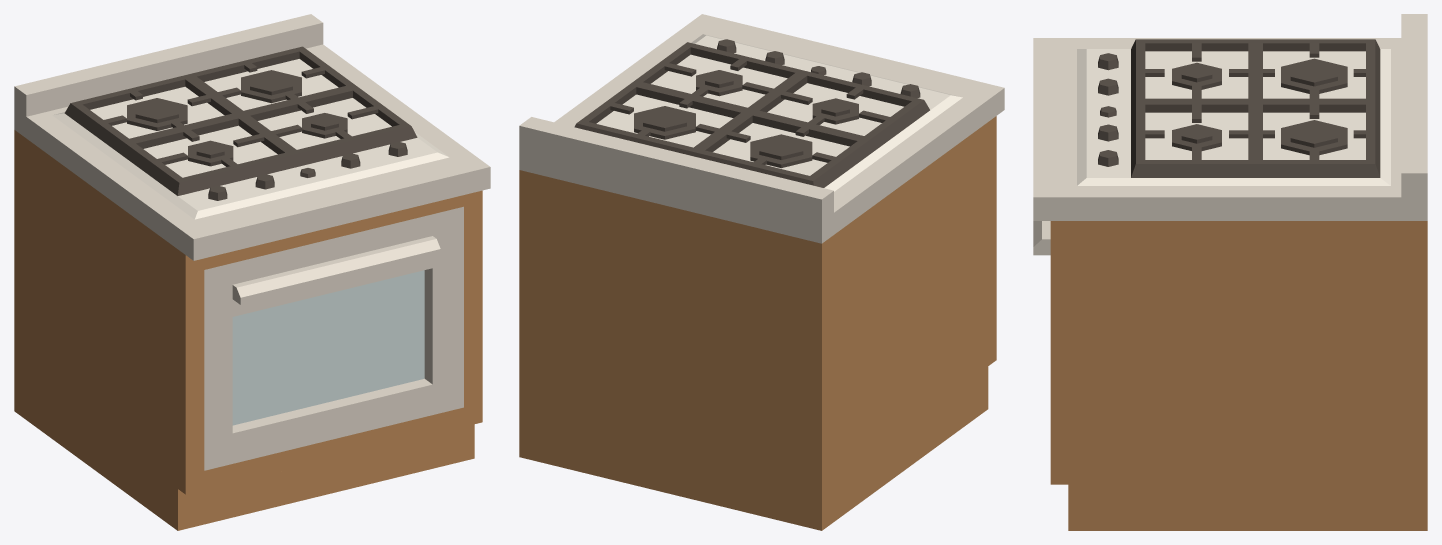
The model's file is kitKitchenStove.glb.
The picture shows the model from 3 angles, left to right: view 1: azimuth 30°, elevation 25°; view 2: azimuth 150°, elevation 25°; view 3: azimuth 270°, elevation 25°; orthographic projection. The views are drawn at different scales.
Visible parts, largest first — view 1: kitKitchenStove_wood, kitKitchenStove_metal, kitKitchenStove_metalDark, kitKitchenStove_glass, kitKitchenStove_fabricLight; view 2: kitKitchenStove_wood, kitKitchenStove_metal, kitKitchenStove_metalDark, kitKitchenStove_fabricLight; view 3: kitKitchenStove_wood, kitKitchenStove_metal, kitKitchenStove_metalDark, kitKitchenStove_fabricLight.
Part boxes in pixels (box(x1,y1,x2,y2)): kitKitchenStove_wood: box(14, 130, 482, 530); kitKitchenStove_metal: box(14, 14, 490, 470); kitKitchenStove_metalDark: box(64, 46, 417, 200); kitKitchenStove_glass: box(232, 270, 424, 425); kitKitchenStove_fabricLight: box(52, 59, 449, 219); kitKitchenStove_wood: box(519, 116, 996, 530); kitKitchenStove_metal: box(519, 14, 1004, 243); kitKitchenStove_metalDark: box(574, 39, 929, 187); kitKitchenStove_fabricLight: box(596, 34, 962, 191); kitKitchenStove_wood: box(1050, 221, 1427, 530); kitKitchenStove_metal: box(1033, 14, 1427, 255); kitKitchenStove_metalDark: box(1098, 39, 1380, 177); kitKitchenStove_fabricLight: box(1077, 49, 1390, 185).
Size of the model in its own units: 0.86 by 0.9 by 0.9.
